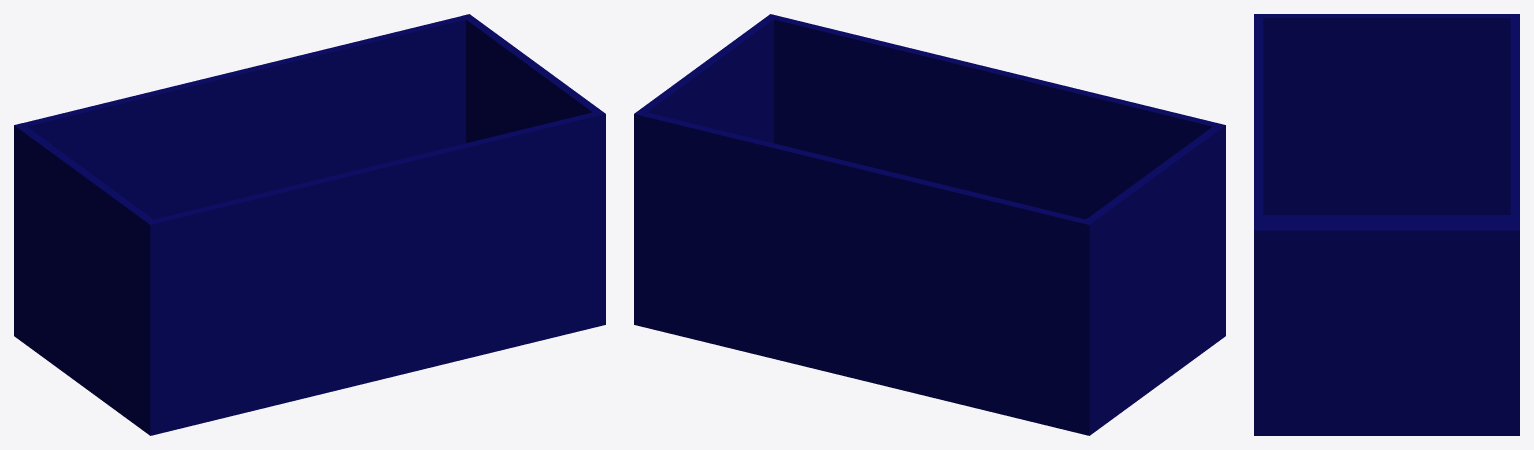
Rendered from BEGIN RUIMTE V3.fbx.
3 views of the same model, side by side, from view 1: azimuth 30°, elevation 25°; view 2: azimuth 150°, elevation 25°; view 3: azimuth 270°, elevation 25° (orthographic). The views are drawn at different scales.
Visible parts, largest first — view 1: Group16, Group14, Group12, Group15, Group17; view 2: Group14, Group16, Group12, Group15, Group17; view 3: Group15, Group12, Group17, Group14, Group16.
Boxes of the visible parts, box(x1,y1,x2,y2) form: Group16: box(154, 112, 597, 424); Group14: box(22, 16, 465, 219); Group12: box(14, 123, 158, 427); Group15: box(461, 14, 605, 317); Group17: box(14, 316, 605, 435); Group14: box(642, 112, 1085, 425); Group16: box(774, 16, 1217, 219); Group12: box(1081, 123, 1225, 427); Group15: box(634, 14, 778, 317); Group17: box(634, 316, 1225, 435); Group15: box(1254, 226, 1519, 427); Group12: box(1254, 14, 1519, 214); Group17: box(1254, 215, 1519, 435); Group14: box(1510, 18, 1519, 226); Group16: box(1254, 18, 1263, 226).
Size of the model in its own units: 16449 by 7280 by 8534.
